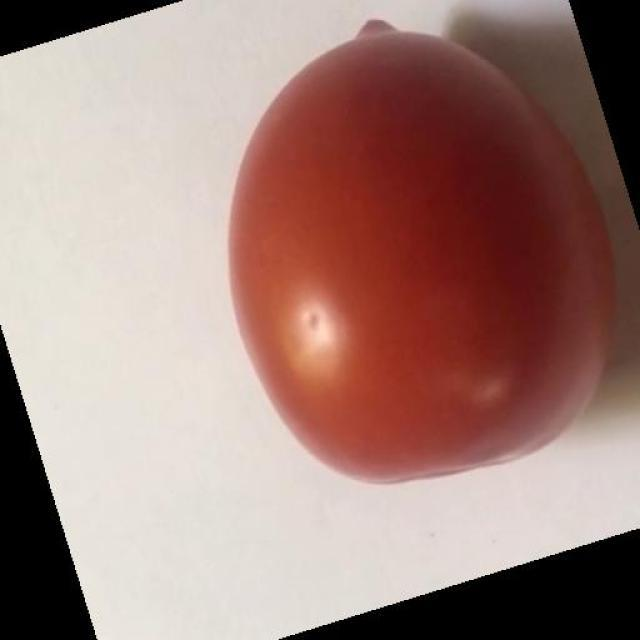Fresh Tomato: (212, 0, 628, 508)
